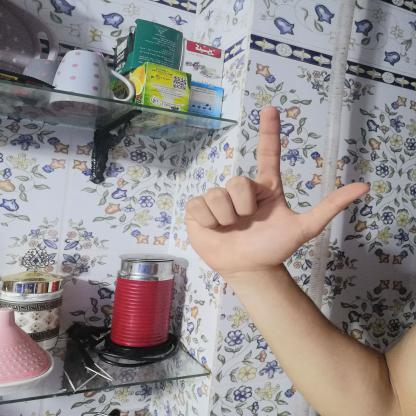LAAM: (161, 92, 385, 288)
